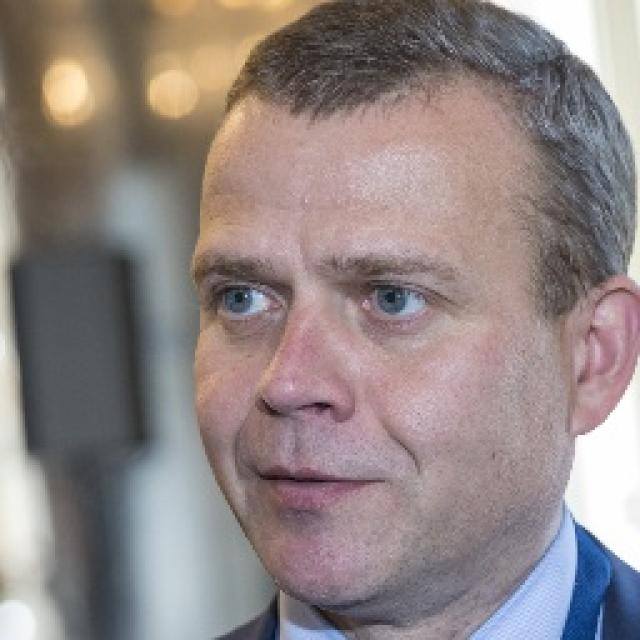earlobe: (570, 396, 614, 440)
eye: (352, 283, 434, 320), (205, 282, 278, 321)
nose: (263, 407, 342, 453)
wholeear: (564, 273, 640, 439)
